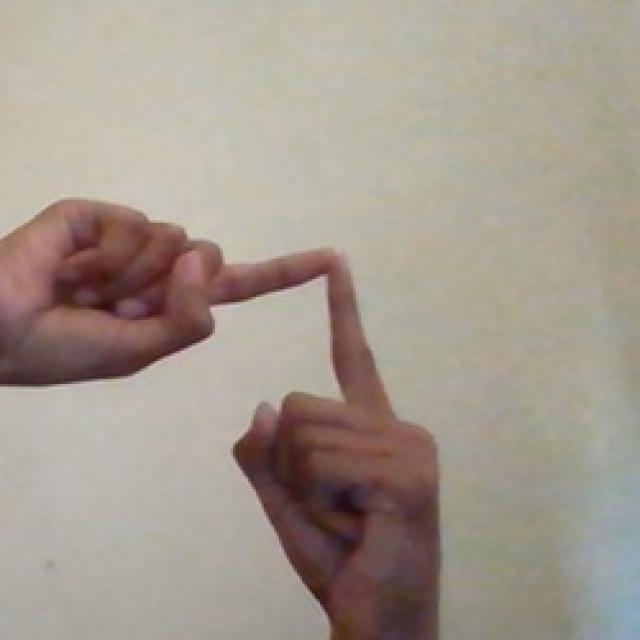Alphabet-E: (1, 200, 440, 640)
